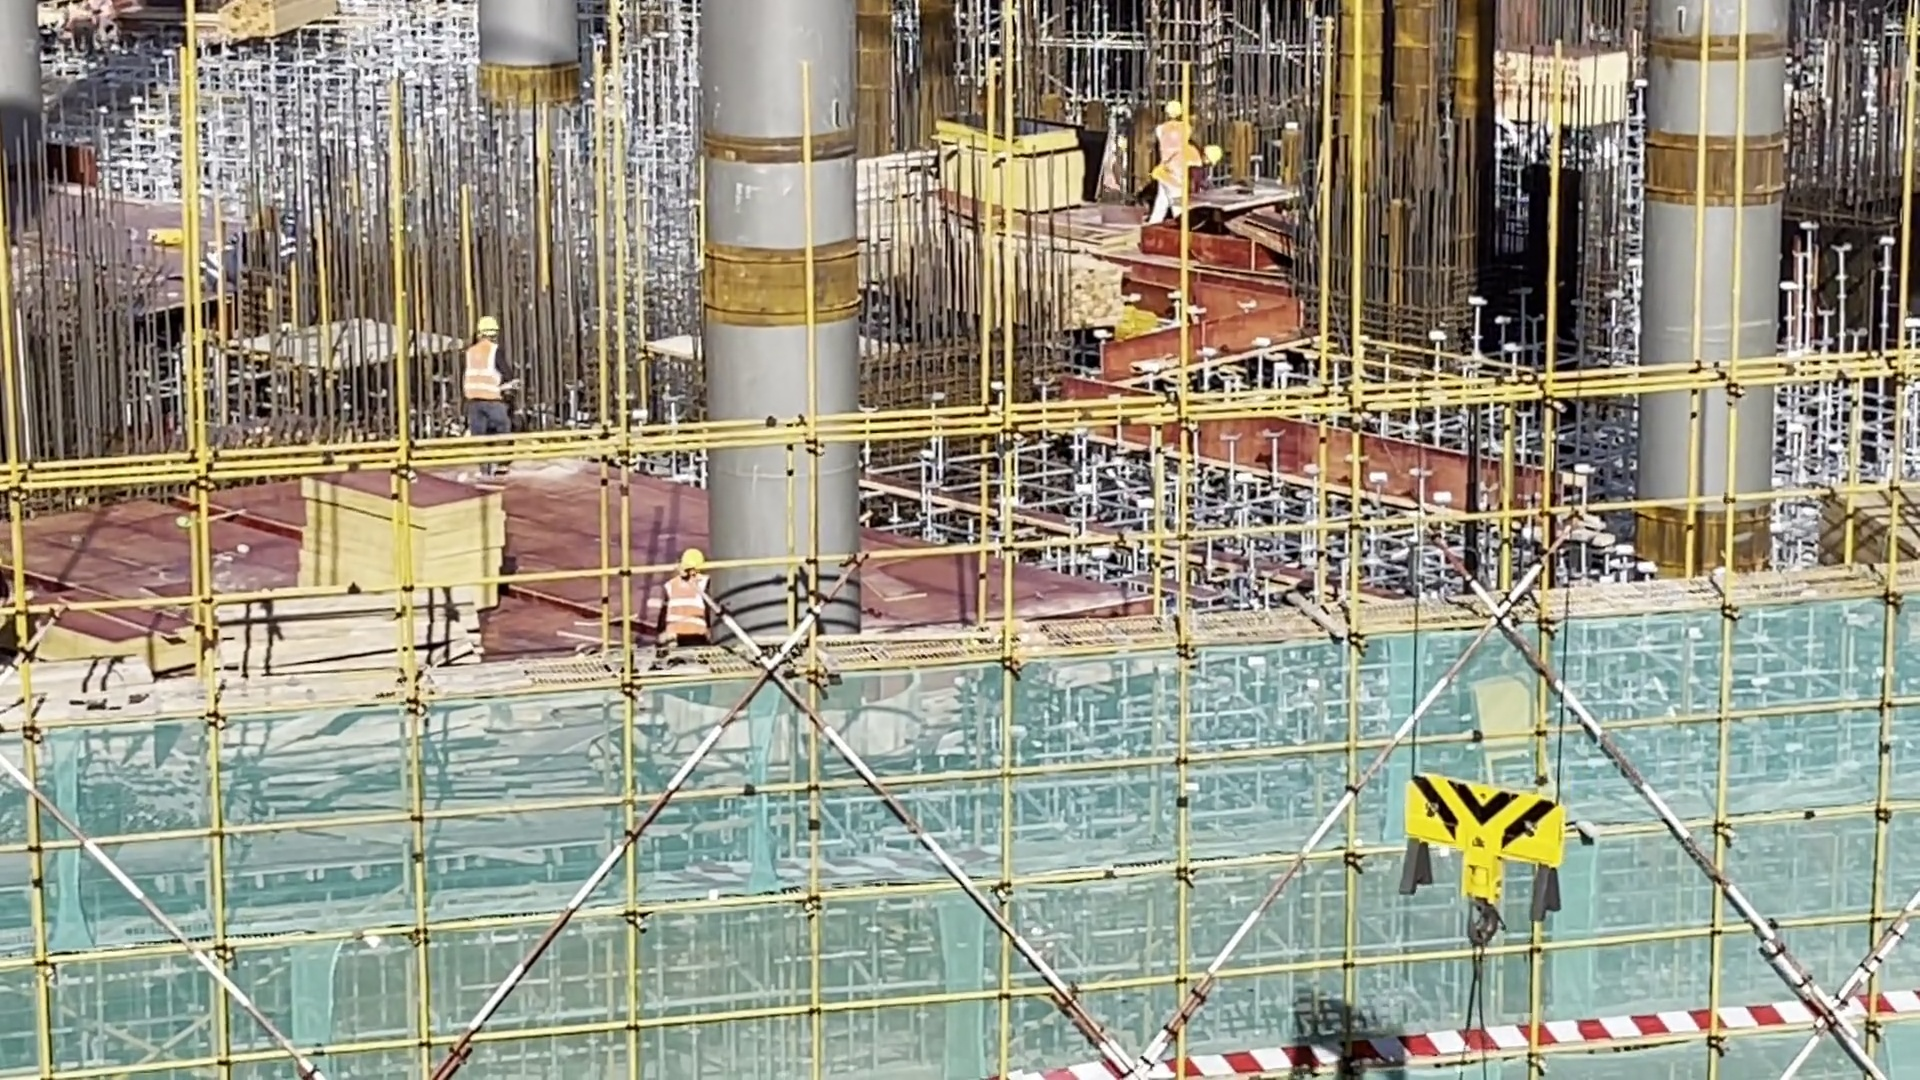board: (287, 470, 516, 626), (943, 111, 1106, 222), (1802, 481, 1920, 568)
ebox: (1459, 669, 1565, 796)
helmet: (678, 549, 705, 577), (477, 314, 501, 341), (1203, 142, 1221, 170), (1163, 101, 1183, 119)
hook: (1364, 772, 1584, 971)
person: (458, 304, 529, 502), (1151, 137, 1231, 224), (655, 545, 715, 655), (1154, 99, 1206, 220)
vest: (662, 574, 721, 652), (465, 340, 512, 404), (1155, 143, 1202, 193), (1159, 116, 1193, 159)
wood: (206, 578, 483, 717), (224, 1, 329, 57)
